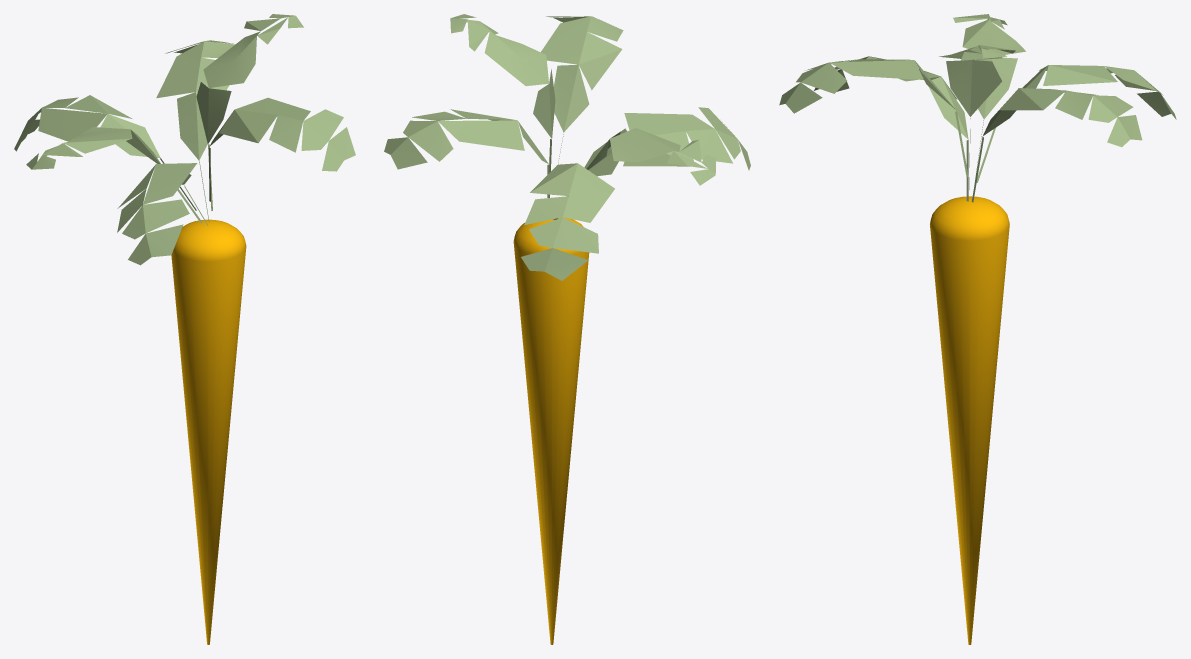
Rendered from zanahoria.glb.
3 renders of one model, left to right at view 1: azimuth 30°, elevation 25°; view 2: azimuth 150°, elevation 25°; view 3: azimuth 270°, elevation 25°, orthographic. The views are drawn at different scales.
Parts seen in each view (by area): view 1: 1234, 1235; view 2: 1234, 1235; view 3: 1235, 1234.
Boxes of the visible parts, box(x1,y1,x2,y2) form: 1234: box(14, 14, 355, 265); 1235: box(171, 219, 246, 644); 1234: box(384, 14, 750, 280); 1235: box(513, 217, 589, 644); 1235: box(930, 196, 1009, 644); 1234: box(779, 14, 1176, 202).
Size of the model in its own units: 1.75 by 3.79 by 2.14.
